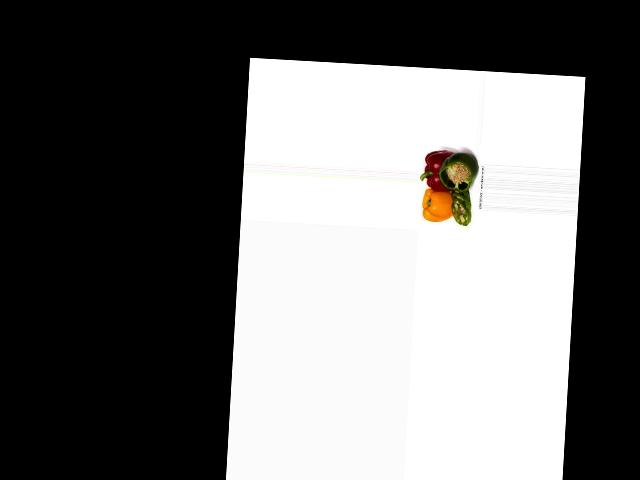bell_pepper: (437, 147, 476, 193)
